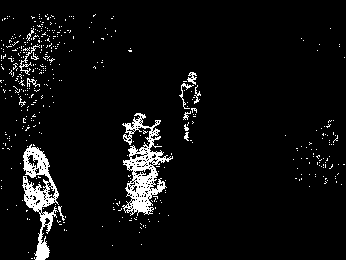person: (22, 144, 70, 260), (179, 71, 203, 147)
